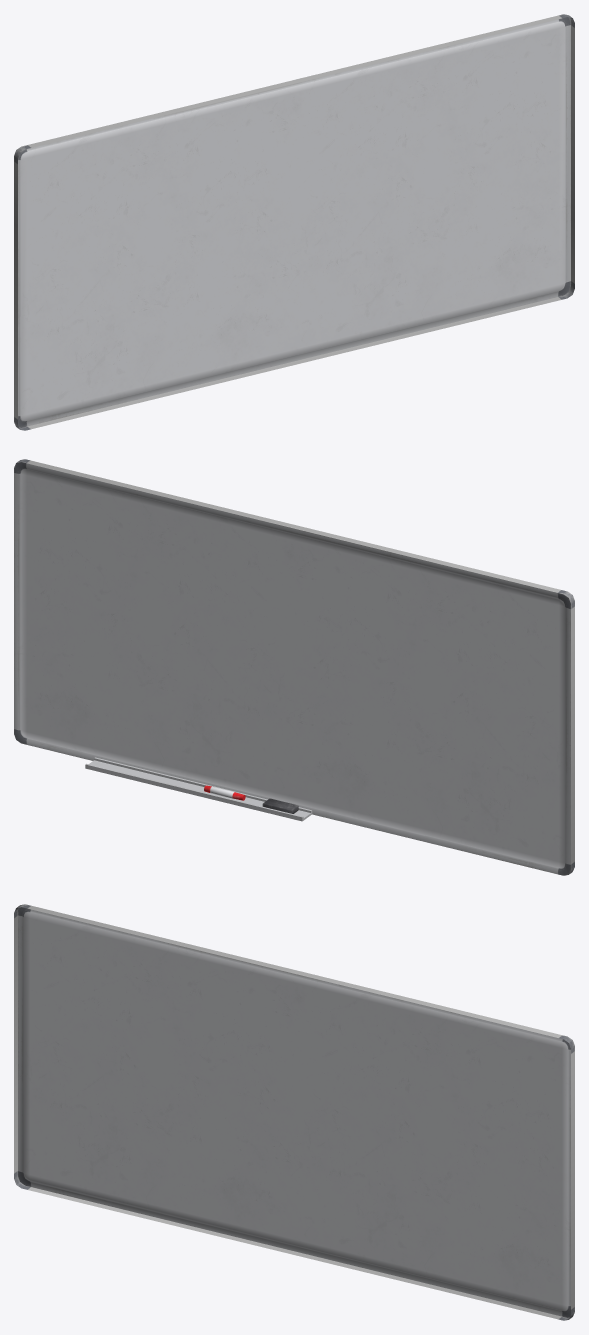
The model's file is white_board.glb.
3 renders of one model, top to bottom at view 1: azimuth 30°, elevation 25°; view 2: azimuth 150°, elevation 25°; view 3: azimuth 330°, elevation 25°, orthographic.
Visible parts, largest first — view 1: WhiteBoard_low; view 2: WhiteBoard_low, MarkerHolder_low; view 3: WhiteBoard_low.
Boxes of the visible parts, left/top/right/bottom form: WhiteBoard_low: left=14, top=14, right=574, bottom=430; WhiteBoard_low: left=14, top=459, right=574, bottom=875; MarkerHolder_low: left=85, top=757, right=312, bottom=821; WhiteBoard_low: left=14, top=904, right=574, bottom=1320.
Size of the model in its own units: 3.98 by 1.92 by 0.17.
1 material, 1 textured.
